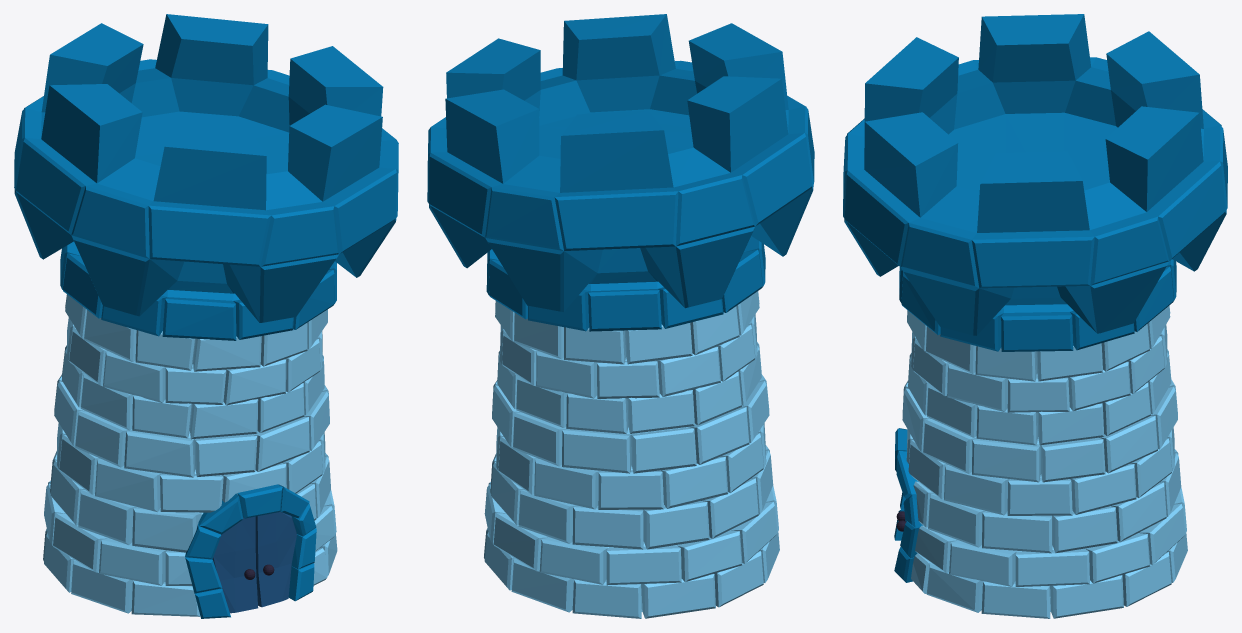
Rendered from PROP_Ice_House01.FBX.
3 renders of one model, left to right at view 1: azimuth 30°, elevation 25°; view 2: azimuth 150°, elevation 25°; view 3: azimuth 270°, elevation 25°, orthographic.
Visible parts, largest first — view 1: PROP_Ice_House01; view 2: PROP_Ice_House01; view 3: PROP_Ice_House01.
Boxes of the visible parts, x1,y1,x2,y2 form: PROP_Ice_House01: (14,14,398,618); PROP_Ice_House01: (427,14,814,618); PROP_Ice_House01: (843,14,1227,618).
Bounding box in the file's own units: 457 × 648 × 465.
1 material, 1 textured.
